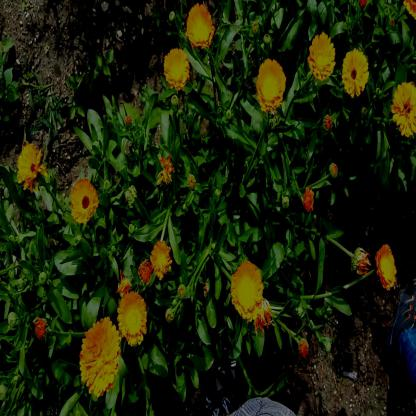marigold: (80, 320, 118, 393), (230, 262, 263, 320), (258, 58, 285, 110), (392, 80, 416, 134), (69, 180, 98, 224), (118, 294, 144, 343), (186, 3, 214, 48), (343, 50, 368, 98), (309, 34, 336, 77), (163, 48, 190, 90), (19, 144, 43, 188), (149, 242, 174, 280), (377, 244, 396, 288)
